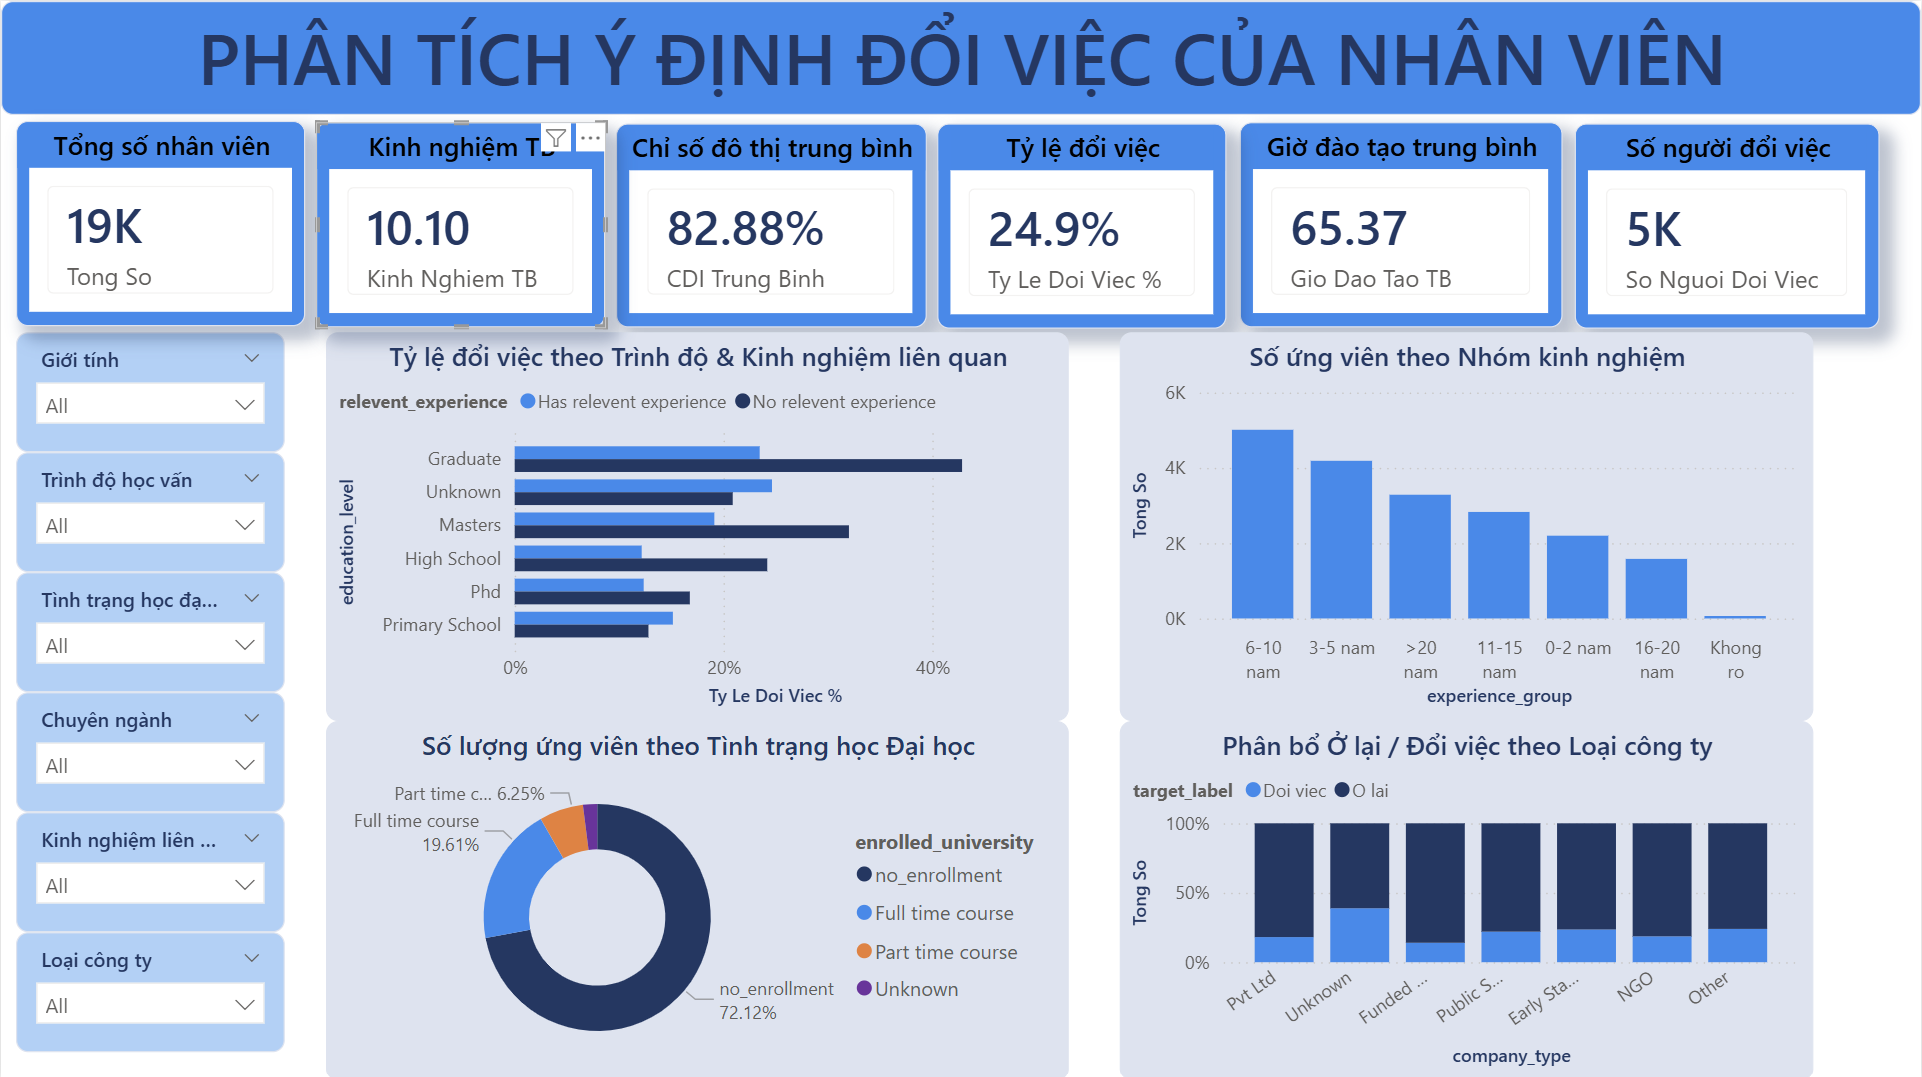

This screenshot's page, from the dashboard's own definition file:
{"tool":"powerbi","page":{"name":"Page 1","canvas":[1280,720],"ordinal":0},"visuals":[{"type":"shape","title":"PHÂN TÍCH Ý ĐỊNH ĐỔI VIỆC CỦA NHÂN VIÊN","box":[0,0,1280.2,76.2],"z":0},{"type":"slicer","fields":{"Values":["aug_train_cleaned.gender"]},"box":[10,221,179,80],"z":1000},{"type":"slicer","fields":{"Values":["aug_train_cleaned.education_level"]},"box":[10,301,179,80],"z":2000},{"type":"slicer","fields":{"Values":["aug_train_cleaned.relevent_experience"]},"box":[10,541,179,80],"z":3000},{"type":"slicer","fields":{"Values":["aug_train_cleaned.company_type"]},"box":[10,621,179,80],"z":4000},{"type":"slicer","fields":{"Values":["aug_train_cleaned.major_discipline"]},"box":[10,461,179,80],"z":5000},{"type":"slicer","fields":{"Values":["aug_train_cleaned.enrolled_university"]},"box":[10,381,179,80],"z":6000},{"type":"cardVisual","title":"Tổng số nhân viên","fields":{"Data":["aug_train_cleaned.Tong So"]},"box":[10,80,193,137],"z":7000},{"type":"cardVisual","title":"Kinh nghiệm TB","fields":{"Data":["aug_train_cleaned.Kinh Nghiem TB"]},"box":[210,81,193,137],"z":8000},{"type":"cardVisual","title":"Chỉ số đô thị trung bình","fields":{"Data":["aug_train_cleaned.CDI Trung Binh"]},"box":[410,82,207,136],"z":9000},{"type":"cardVisual","title":"Giờ đào tạo trung bình","fields":{"Data":["aug_train_cleaned.Gio Dao Tao TB"]},"box":[826,81,215,137],"z":10000},{"type":"cardVisual","title":"Số người đổi việc","fields":{"Data":["aug_train_cleaned.So Nguoi Doi Viec"]},"box":[1049,82,203,137],"z":11000},{"type":"cardVisual","title":"Tỷ lệ đổi việc","fields":{"Data":["aug_train_cleaned.Ty Le Doi Viec %"]},"box":[624,82,193,137],"z":12000},{"type":"clusteredBarChart","title":"Tỷ lệ đổi việc theo Trình độ & Kinh nghiệm liên quan","fields":{"Category":["aug_train_cleaned.education_level"],"Series":["aug_train_cleaned.relevent_experience"],"Y":["aug_train_cleaned.Ty Le Doi Viec %"]},"box":[217,221,495,259],"z":13000},{"type":"donutChart","title":"Số lượng ứng viên theo Tình trạng học Đại học","fields":{"Category":["aug_train_cleaned.enrolled_university"],"Y":["aug_train_cleaned.Tong So"]},"box":[217,480,495,240],"z":14000},{"type":"clusteredColumnChart","title":"Số ứng viên theo Nhóm kinh nghiệm","fields":{"Category":["aug_train_cleaned.experience_group"],"Y":["aug_train_cleaned.Tong So"]},"box":[746,221,462,259],"z":15000},{"type":"hundredPercentStackedColumnChart","title":"Phân bổ Ở lại / Đổi việc theo Loại công ty","fields":{"Category":["aug_train_cleaned.company_type"],"Y":["aug_train_cleaned.Tong So"],"Series":["aug_train_cleaned.target_label"]},"box":[746,480,462,240],"z":16000}]}

Visuals, with their boxes in screenshot pixels (x1, y1, x2, y2), scaled from the page's 1280x720 canvas onto the 1922x1077 screenshot:
"PHÂN TÍCH Ý ĐỊNH ĐỔI VIỆC CỦA NHÂN VIÊN" shape: (left=0, top=0, right=1921, bottom=114)
slicer - aug_train_cleaned.gender: (left=15, top=331, right=284, bottom=450)
slicer - aug_train_cleaned.education_level: (left=15, top=450, right=284, bottom=570)
slicer - aug_train_cleaned.relevent_experience: (left=15, top=809, right=284, bottom=929)
slicer - aug_train_cleaned.company_type: (left=15, top=929, right=284, bottom=1049)
slicer - aug_train_cleaned.major_discipline: (left=15, top=690, right=284, bottom=809)
slicer - aug_train_cleaned.enrolled_university: (left=15, top=570, right=284, bottom=690)
"Tổng số nhân viên" cardVisual: (left=15, top=120, right=305, bottom=325)
"Kinh nghiệm TB" cardVisual: (left=315, top=121, right=605, bottom=326)
"Chỉ số đô thị trung bình" cardVisual: (left=616, top=123, right=926, bottom=326)
"Giờ đào tạo trung bình" cardVisual: (left=1240, top=121, right=1563, bottom=326)
"Số người đổi việc" cardVisual: (left=1575, top=123, right=1880, bottom=328)
"Tỷ lệ đổi việc" cardVisual: (left=937, top=123, right=1227, bottom=328)
"Tỷ lệ đổi việc theo Trình độ & Kinh nghiệm liên quan" clusteredBarChart: (left=326, top=331, right=1069, bottom=718)
"Số lượng ứng viên theo Tình trạng học Đại học" donutChart: (left=326, top=718, right=1069, bottom=1076)
"Số ứng viên theo Nhóm kinh nghiệm" clusteredColumnChart: (left=1120, top=331, right=1814, bottom=718)
"Phân bổ Ở lại / Đổi việc theo Loại công ty" hundredPercentStackedColumnChart: (left=1120, top=718, right=1814, bottom=1076)
